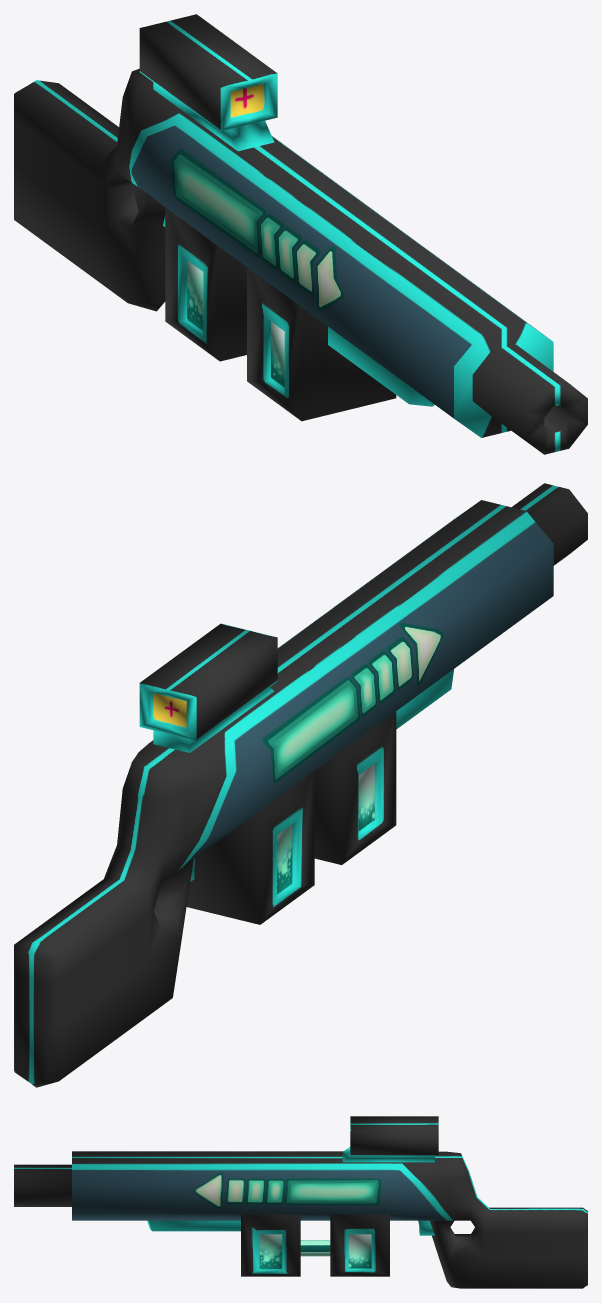
File: PlasmaRifle.fbx
The picture shows the model from 3 angles, top to bottom: view 1: azimuth 30°, elevation 25°; view 2: azimuth 150°, elevation 25°; view 3: azimuth 270°, elevation 25°; orthographic projection. The views are drawn at different scales.
Visible parts, largest first — view 1: Cube; view 2: Cube; view 3: Cube.
Boxes of the visible parts, x1=… form: Cube: x1=14, y1=14, x2=587, y2=454; Cube: x1=14, y1=483, x2=587, y2=1087; Cube: x1=14, y1=1116, x2=587, y2=1288.
Size of the model in its own units: 8 by 23.09 by 72.92.
